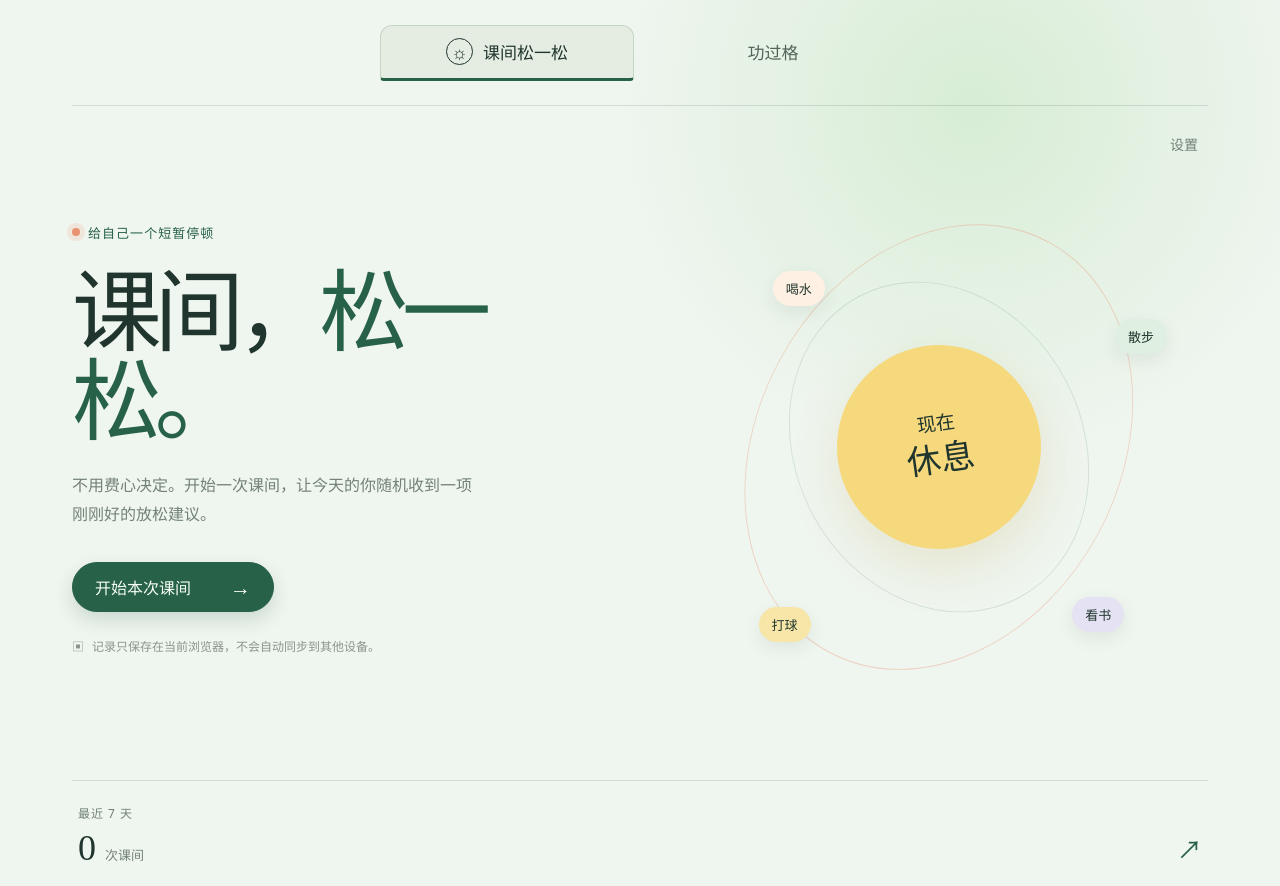
Test: 双模块导航 › renders only two primary modules and exposes the parent module with aria-current
expect the button "功过簿" is not shown: met
Click the button "功过格" at (773,52), box [646,24,900,80]
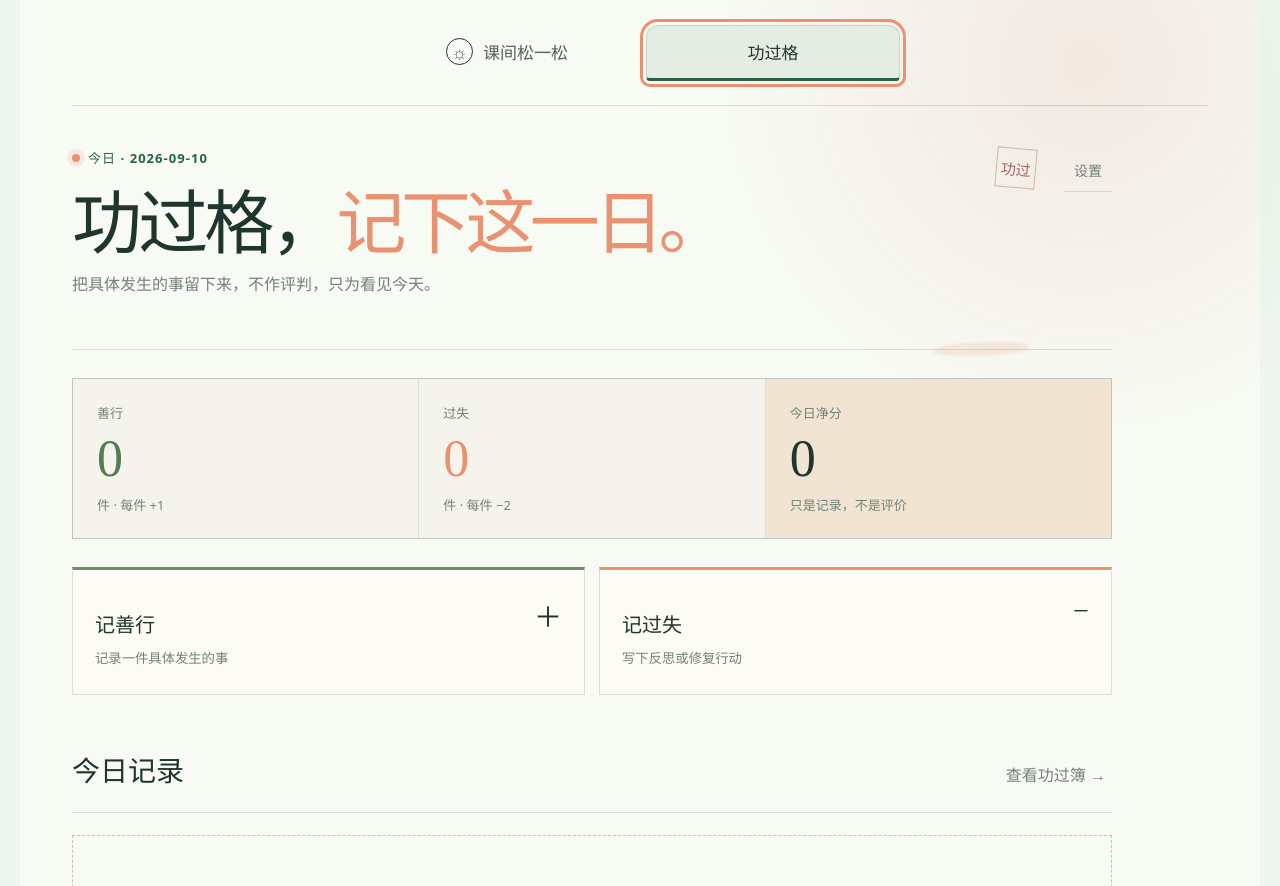
expect the heading "功过格，记下这一日。" is shown: met, box [72,192,723,258]
